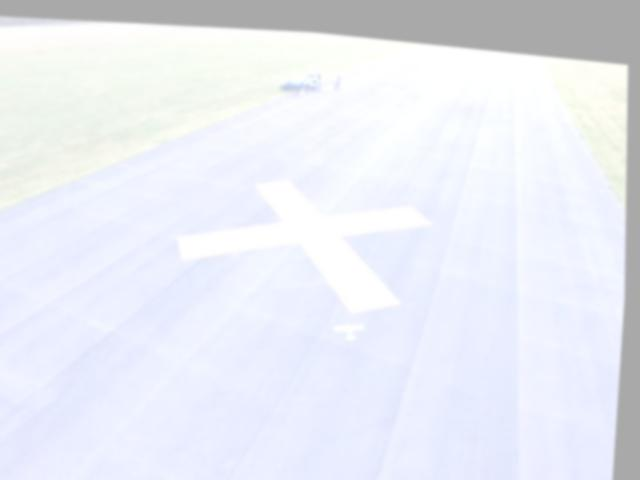uav: (339, 311, 369, 337)
